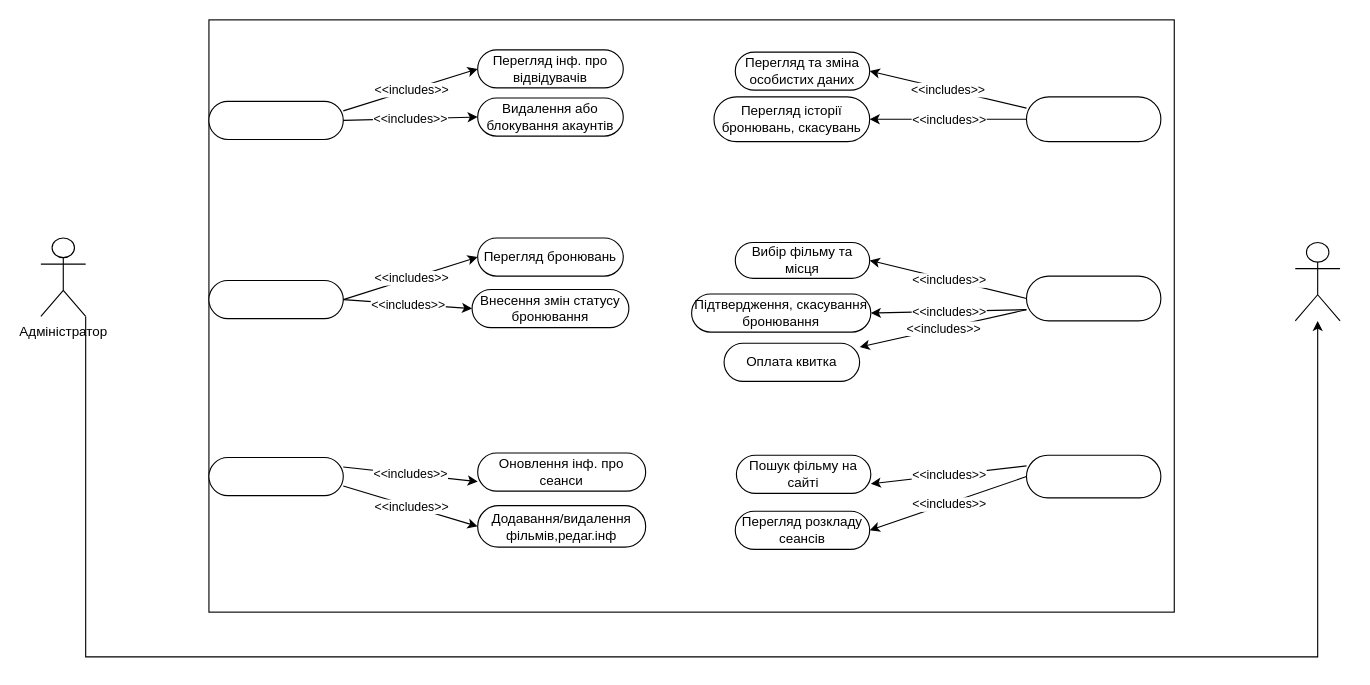
Image size: 1370x685. Some labels were removed from this diagram. The centre of each missing label's shape, as x and y in pixels:
Бронювання квитка: point 1093,298
Відвідувач: point 1317,281
Особистий кабінет: point 1093,119
Перегляд фільмів: point 1093,476
Управління бронюваннями: point 275,299
Управління контентом: point 275,476
Управління користувачами: point 275,119
